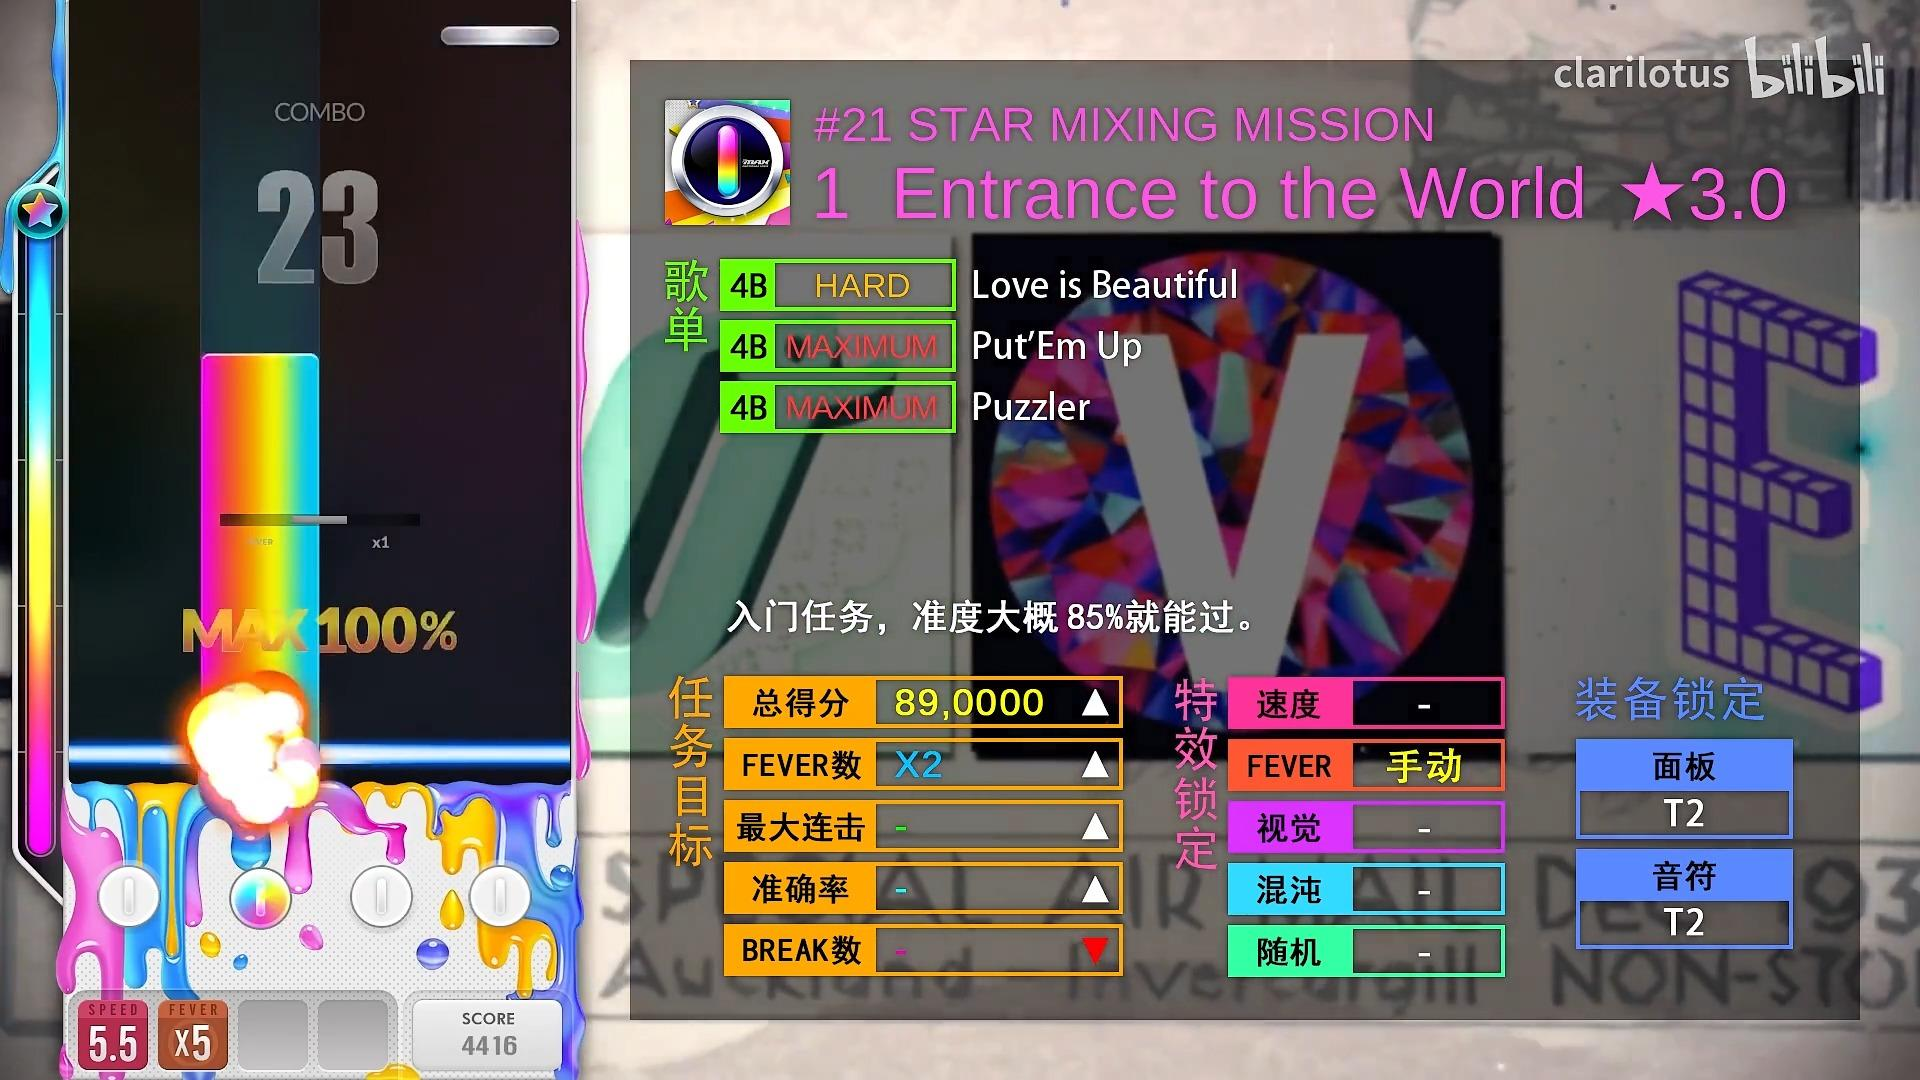hold-end: (202, 353, 319, 375)
note: (439, 25, 560, 47)
